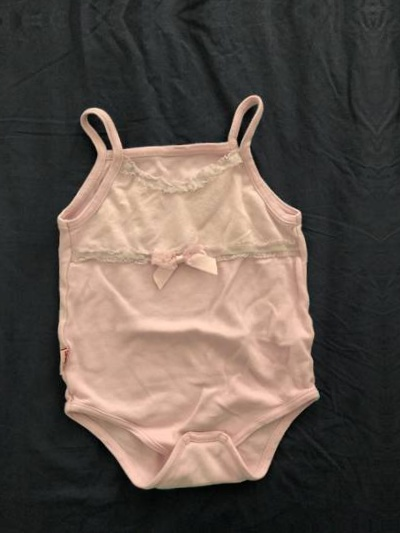Body: (14, 71, 352, 510)
